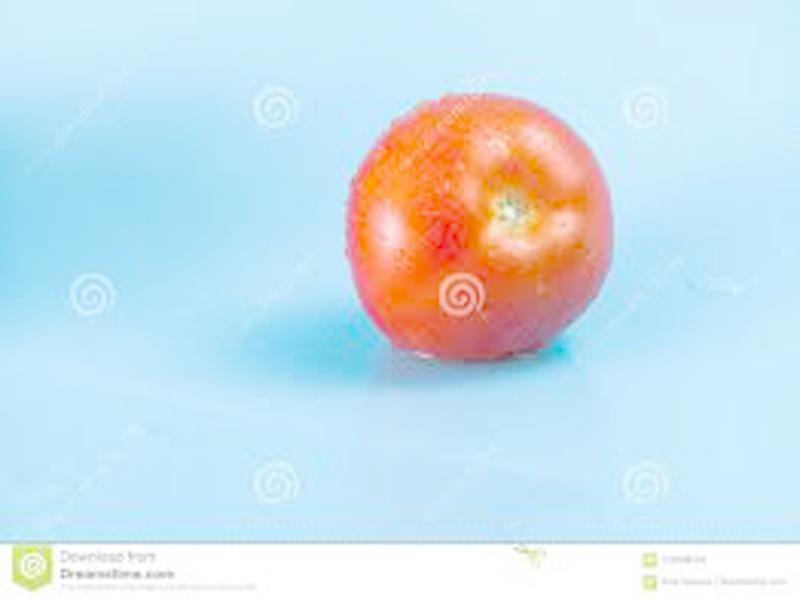Tomato: (345, 93, 617, 358)
